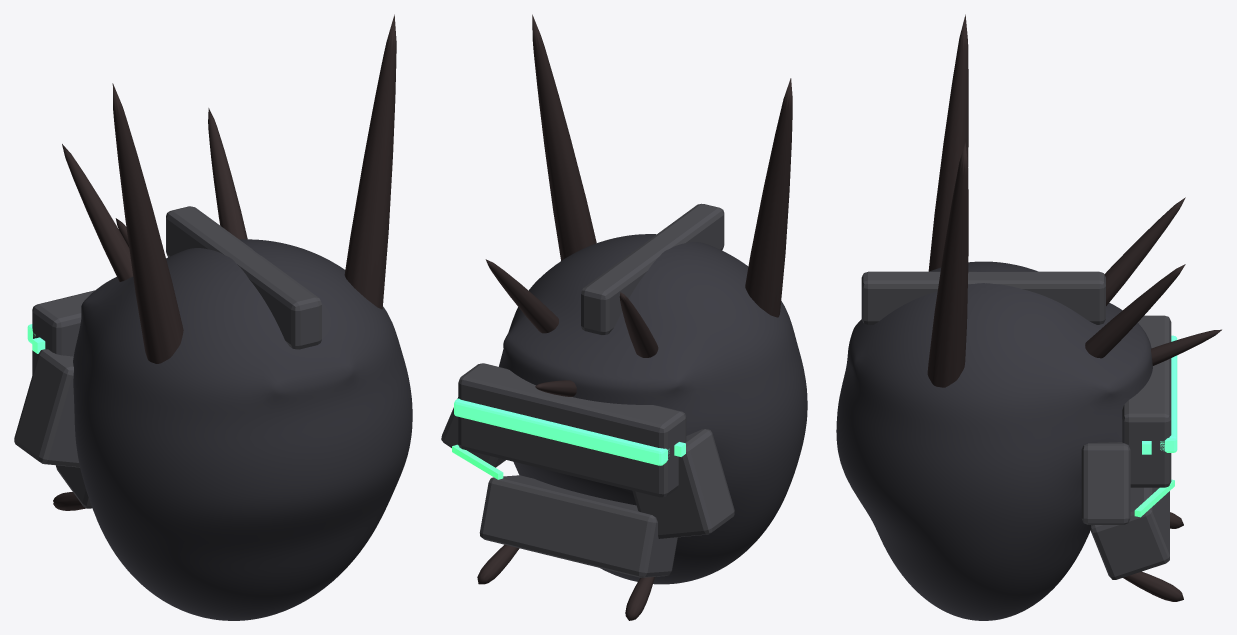
The model's file is demon_helmet.glb.
The picture shows the model from 3 angles, left to right: view 1: azimuth 30°, elevation 25°; view 2: azimuth 150°, elevation 25°; view 3: azimuth 270°, elevation 25°; orthographic projection. The views are drawn at different scales.
Visible parts, largest first — view 1: DemonHelmet; view 2: DemonHelmet; view 3: DemonHelmet.
Boxes of the visible parts, x1,y1,x2,y2 form: DemonHelmet: (14,14,412,620); DemonHelmet: (441,14,807,620); DemonHelmet: (836,14,1221,620).
Bounding box in the file's own units: 0.3993 × 0.719 × 0.4737.
